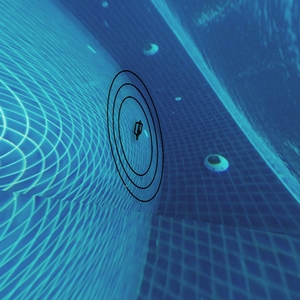circle: (79, 68, 193, 210)
